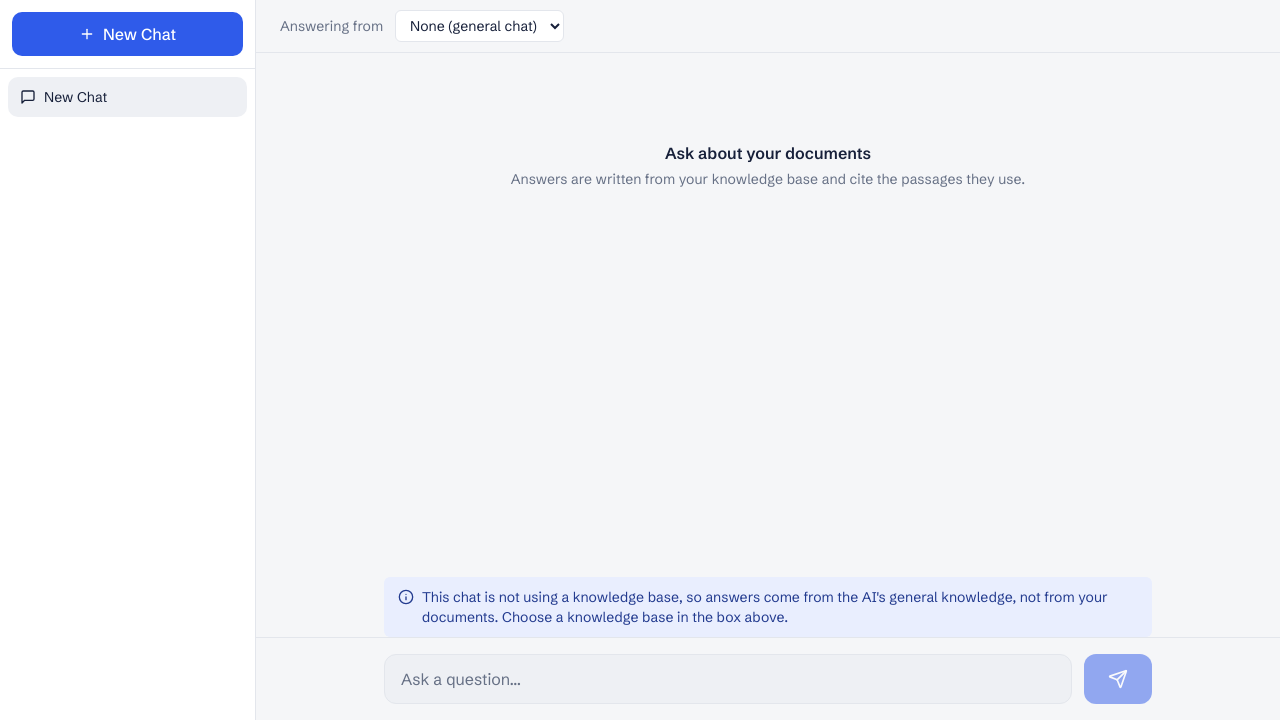
Test: which knowledge base a chat uses › attaches the chosen knowledge base to this chat, and the warning goes away
Select "Handbook" in the dropdown named "Knowledge base for this chat" at (480, 26), box [395,10,564,42]
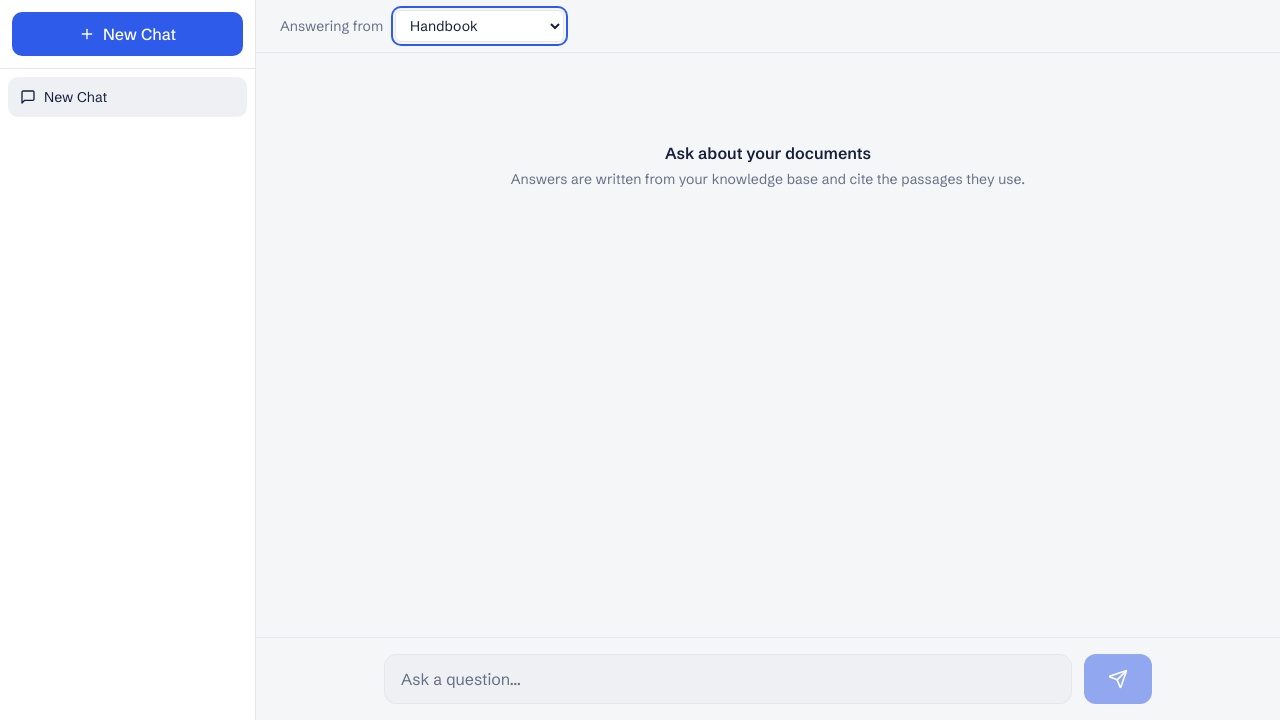
Now the text "not using a knowledge base" is gone
